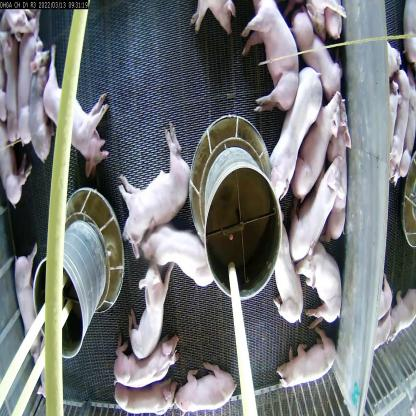Pig: (113, 119, 197, 255), (46, 47, 108, 166), (266, 67, 316, 203), (240, 0, 296, 116), (138, 216, 221, 294), (289, 157, 344, 263), (292, 91, 342, 201), (12, 250, 48, 376), (128, 262, 175, 358), (25, 40, 56, 174), (111, 330, 181, 389), (300, 246, 344, 335), (277, 328, 335, 390), (270, 220, 304, 320), (18, 18, 42, 147), (176, 366, 233, 416), (114, 385, 177, 415)
